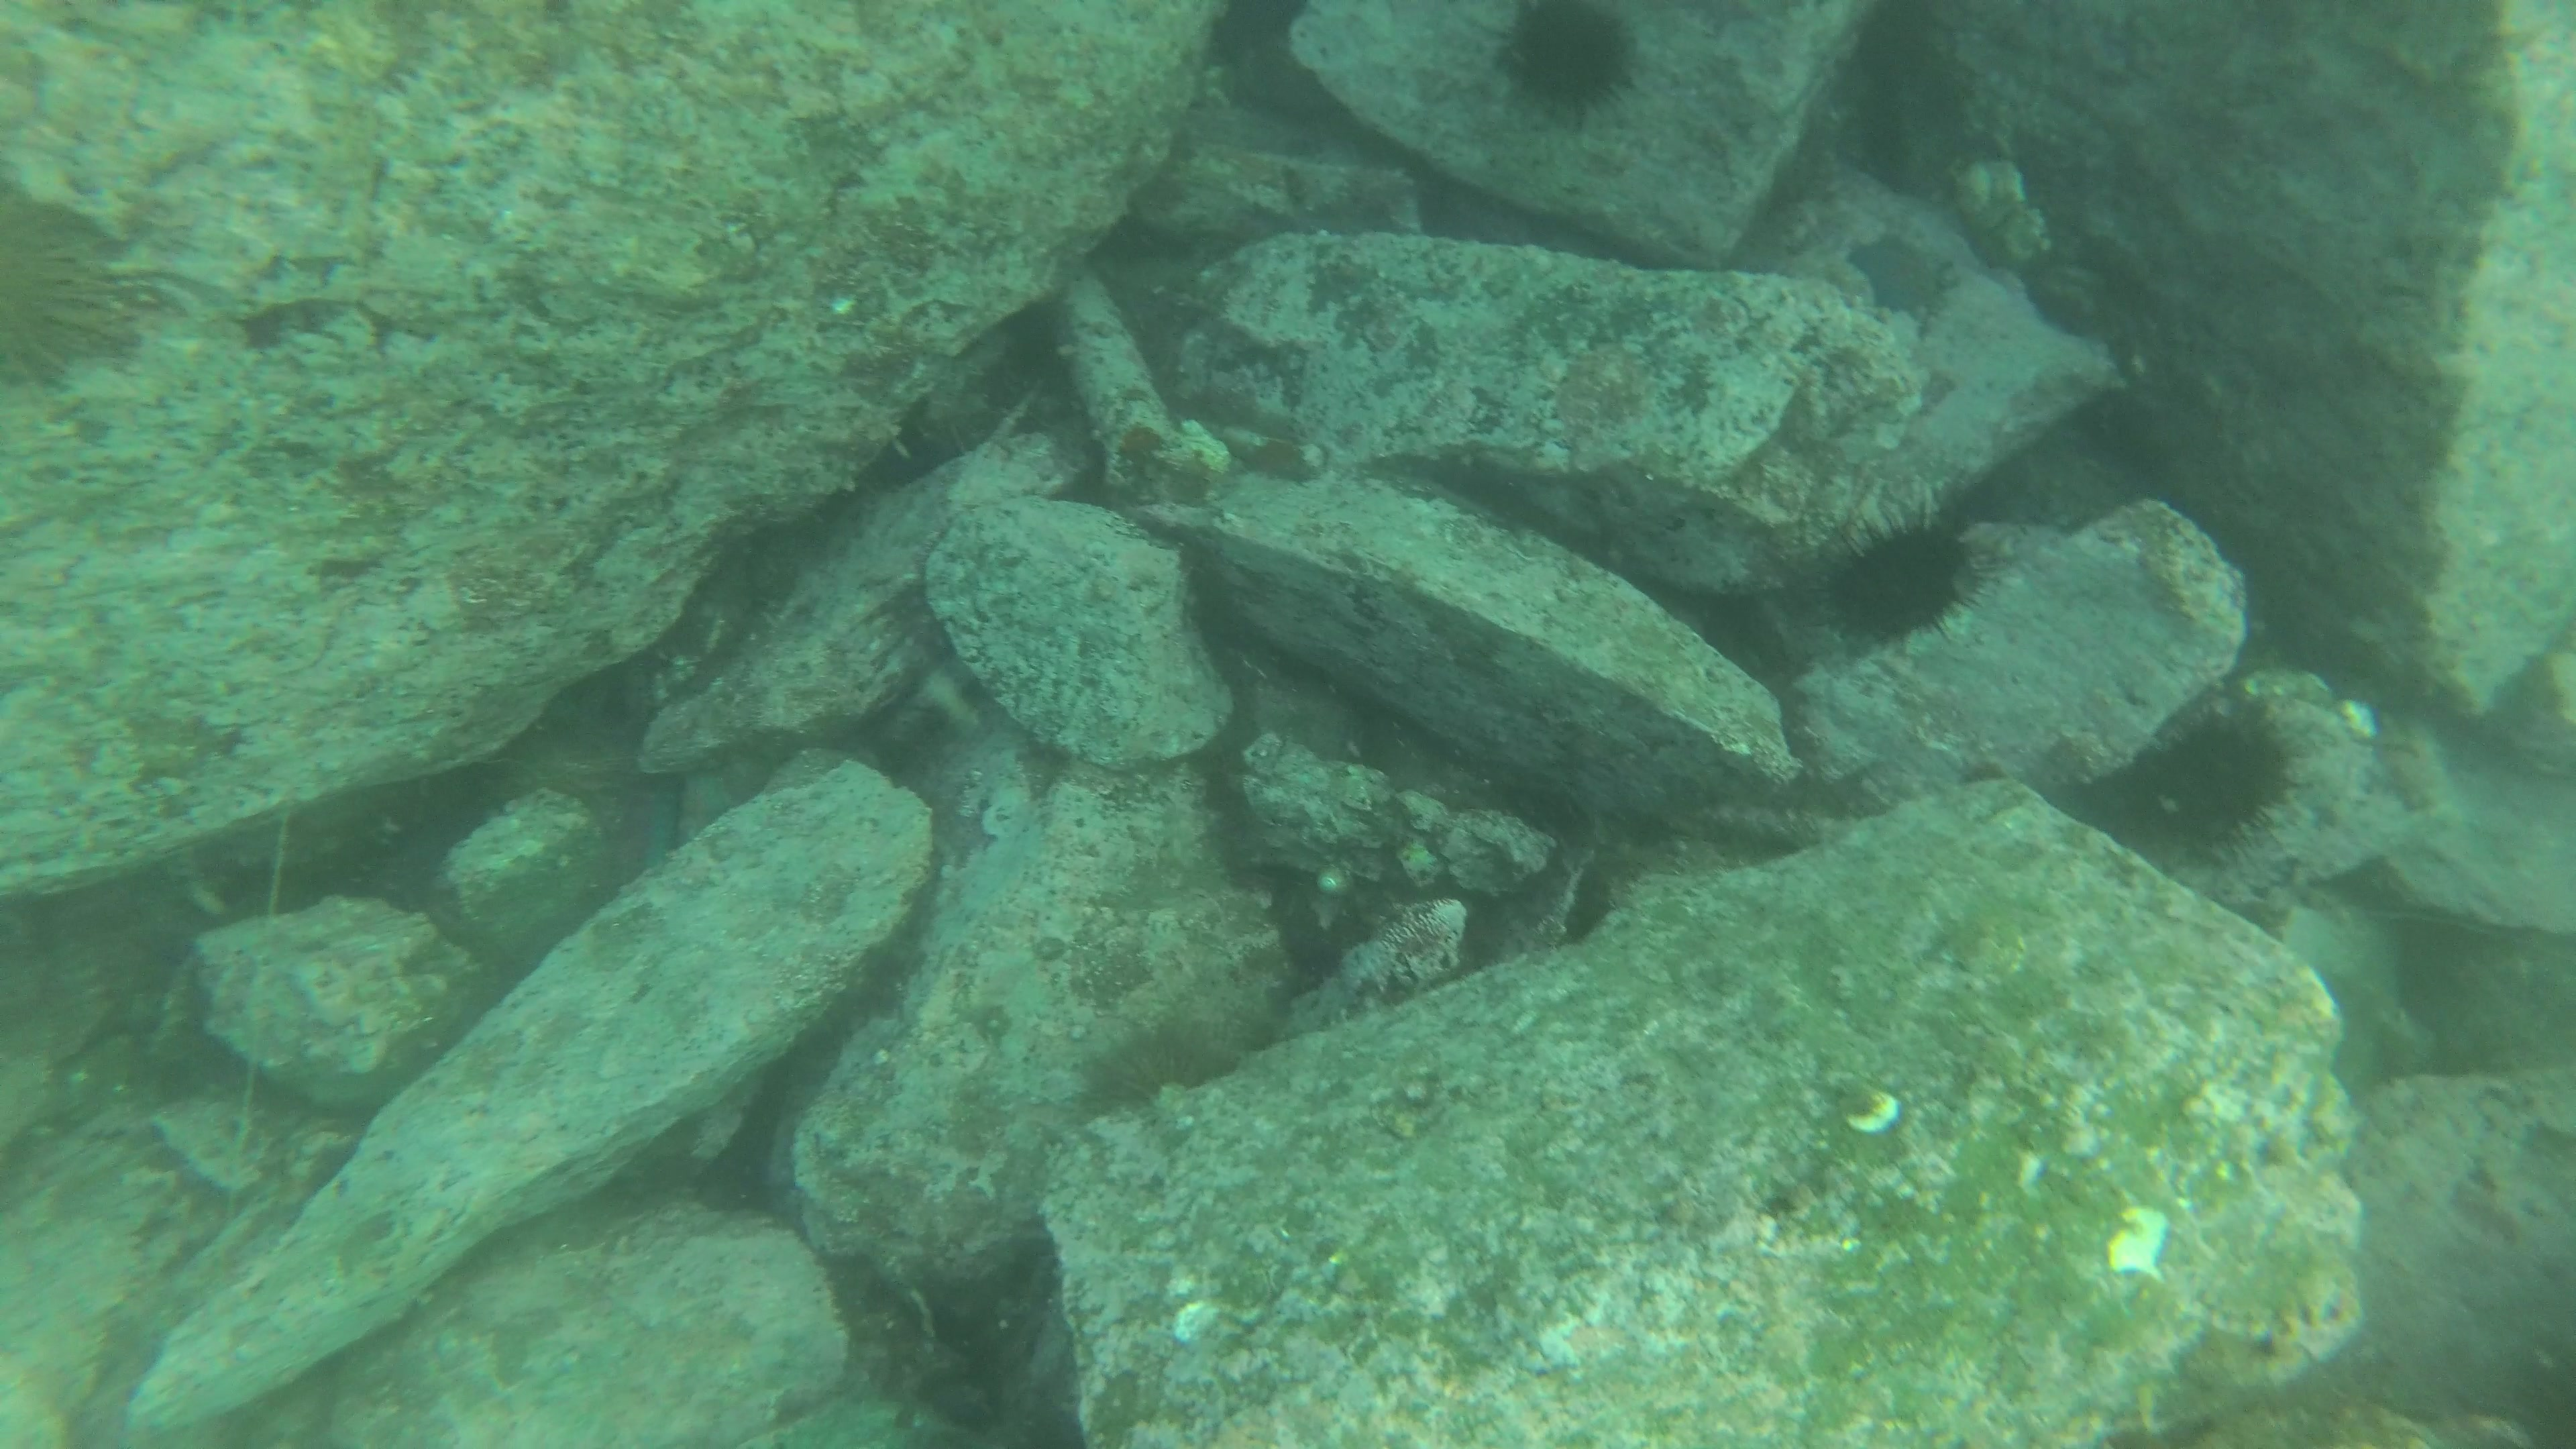echinus: (7, 198, 138, 386), (1821, 495, 1982, 628), (2150, 702, 2305, 835), (1497, 0, 1649, 133), (1077, 1017, 1246, 1108)
